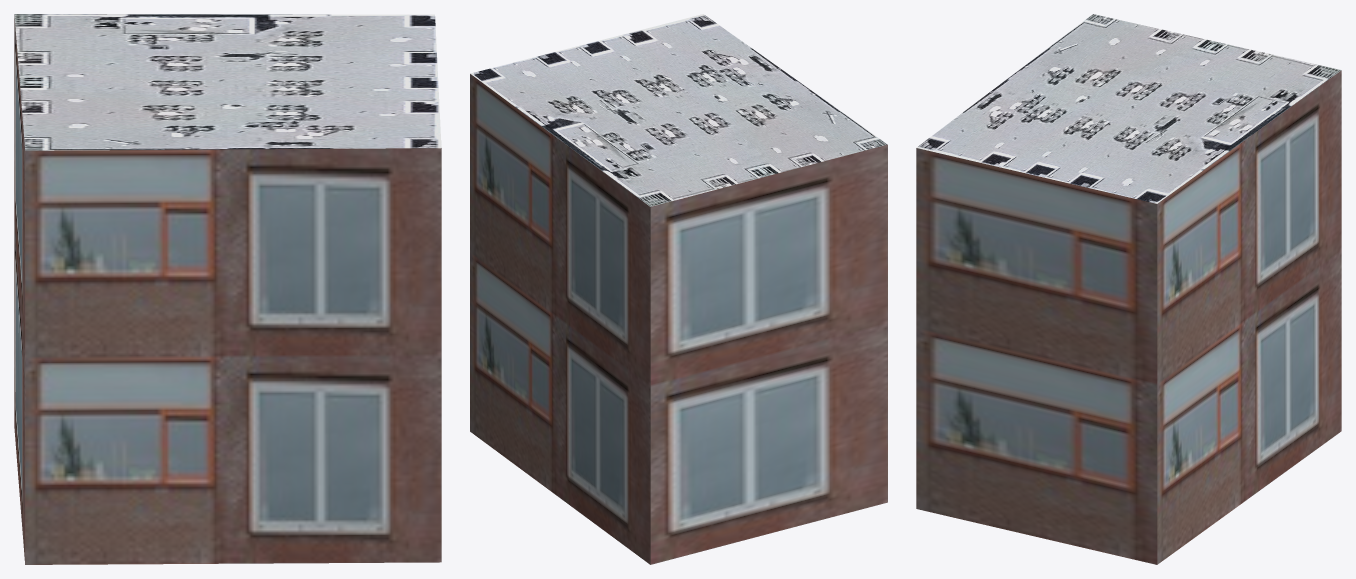
File: ResTex__106.fbx
The picture shows the model from 3 angles, left to right: view 1: azimuth 30°, elevation 25°; view 2: azimuth 150°, elevation 25°; view 3: azimuth 270°, elevation 25°; orthographic projection. The views are drawn at different scales.
Visible parts, largest first — view 1: CityEngineMaterial_19_m, CityEngineMaterial_15_m; view 2: CityEngineMaterial_19_m, CityEngineMaterial_15_m; view 3: CityEngineMaterial_19_m, CityEngineMaterial_15_m.
Boxes of the visible parts, x1,y1,x2,y2 form: CityEngineMaterial_19_m: (14, 14, 441, 564); CityEngineMaterial_15_m: (14, 14, 441, 150); CityEngineMaterial_19_m: (470, 74, 887, 564); CityEngineMaterial_15_m: (470, 14, 887, 206); CityEngineMaterial_19_m: (916, 70, 1341, 564); CityEngineMaterial_15_m: (916, 14, 1341, 203).
Size of the model in its own units: 6.77 by 6 by 6.41.
2 materials, 2 textured.
